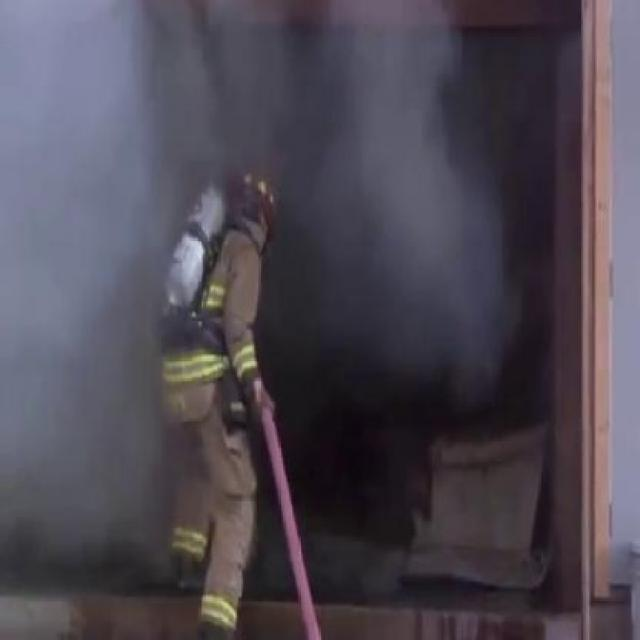smoke: (1, 6, 162, 562), (309, 22, 534, 406)
